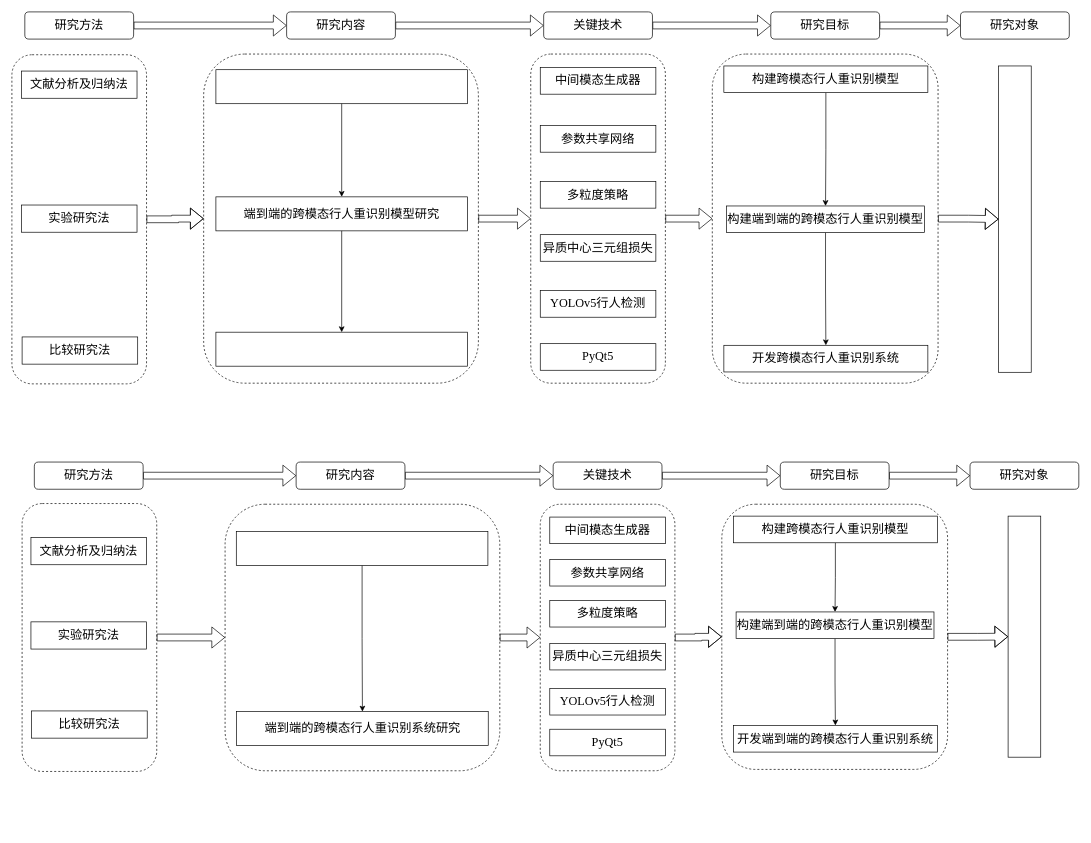
Some shapes in this 1091 by 843 pixel diagram are drawn without their labels. The shapes that lost their labels are listed below. From the top down, each one's box as (x1, y1, x2, y2) in pixels, then its label:
(215, 69, 468, 104): 跨模态行人重识别算法研究
(998, 65, 1031, 372): 基于中间模态和表征学习的跨模态行人重识别模型研究
(215, 332, 468, 366): 跨模态行人重识别系统开发
(236, 531, 488, 565): 基于中间模态和表征学习的跨模态行人重识别算法研究
(1007, 515, 1041, 757): 基于中间模态和表征学习的端到端的跨模态行人重识别方法研究
